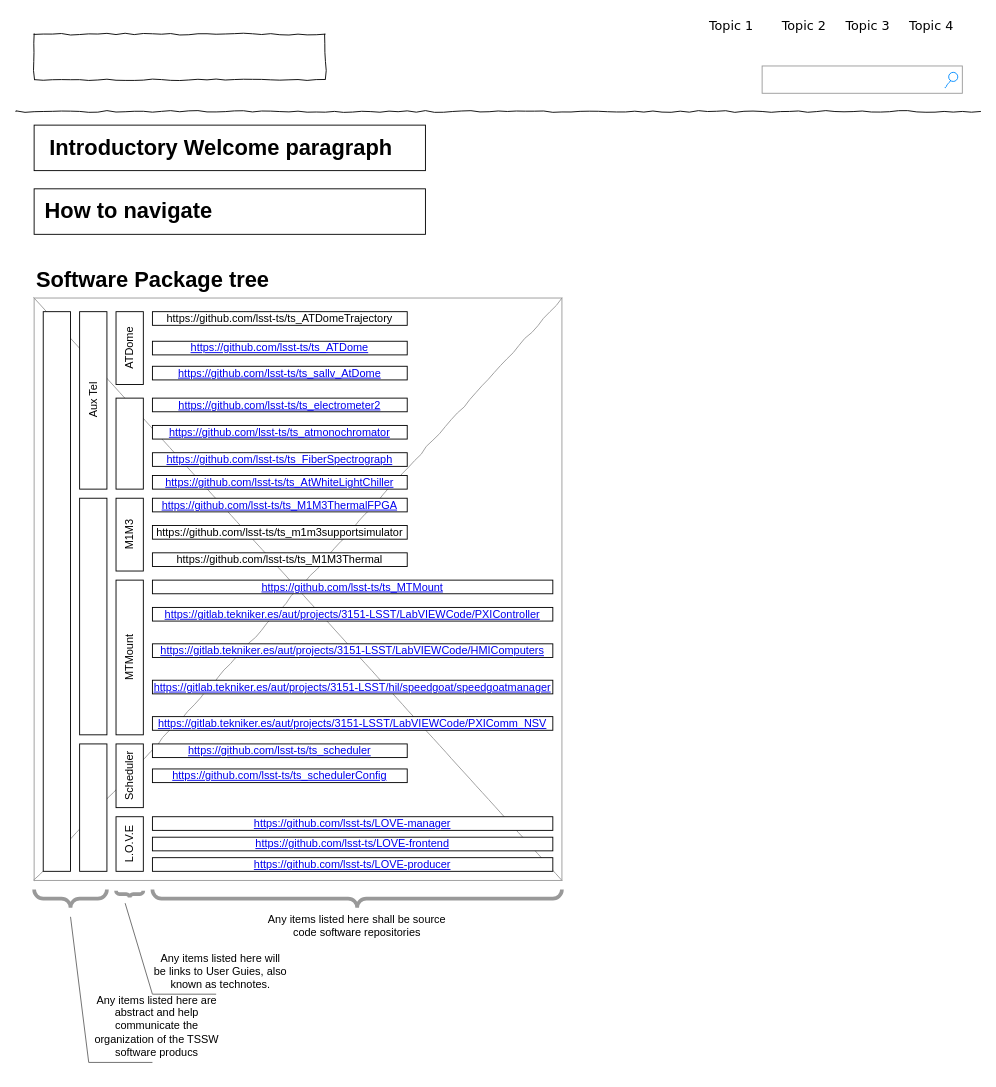
Image size: 996x1087. Some labels were removed from this diagram. The shapes that lost their labels are listed below. From the top down, each one's centre as x and y in pixels, then its label:
the point at 179,56: TSSW Home Page
the point at 861,79: Search
the point at 129,443: AuxTel Calibration
the point at 56,591: Vera Rubin Observatory
the point at 93,616: Main Telescope
the point at 93,807: Observatory Control System
